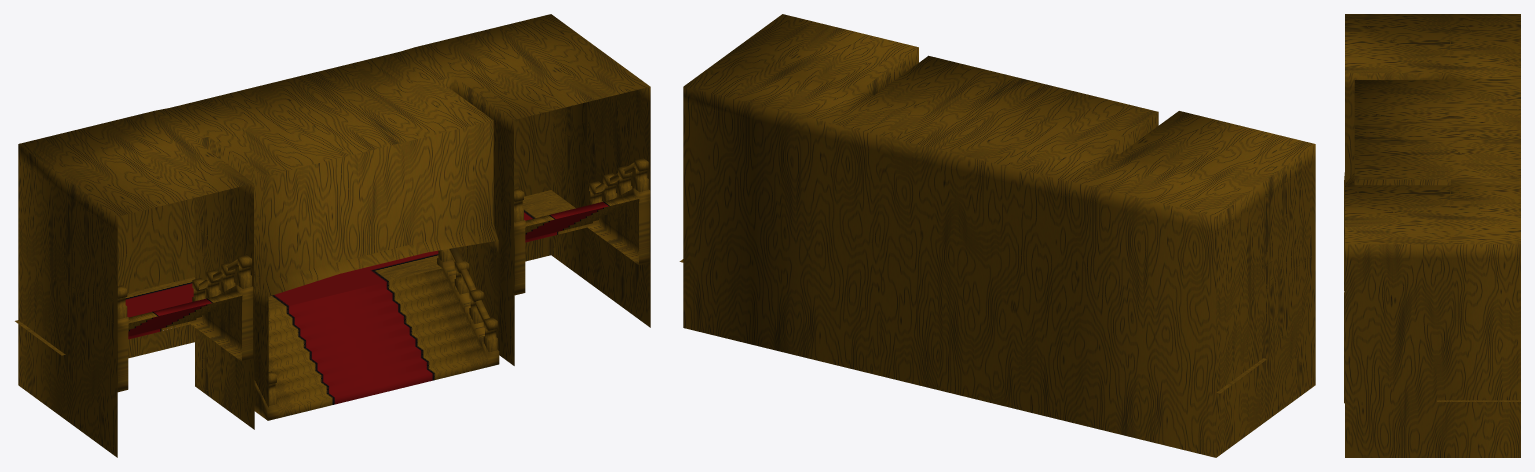
File: center_stair.fbx
The picture shows the model from 3 angles, left to right: view 1: azimuth 30°, elevation 25°; view 2: azimuth 150°, elevation 25°; view 3: azimuth 270°, elevation 25°; orthographic projection. The views are drawn at different scales.
Parts seen in each view (by area): view 1: obj1; view 2: obj1; view 3: obj1.
Boxes of the visible parts, x1,y1,x2,y2 form: obj1: (15, 14, 650, 457); obj1: (679, 14, 1315, 457); obj1: (1344, 14, 1520, 457).
Size of the model in its own units: 1212 by 527 by 388.
2 materials, 2 textured.
